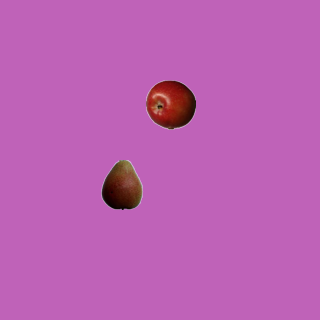Apple Braeburn: (145, 79, 195, 129)
Pear Forelle: (96, 159, 146, 209)
